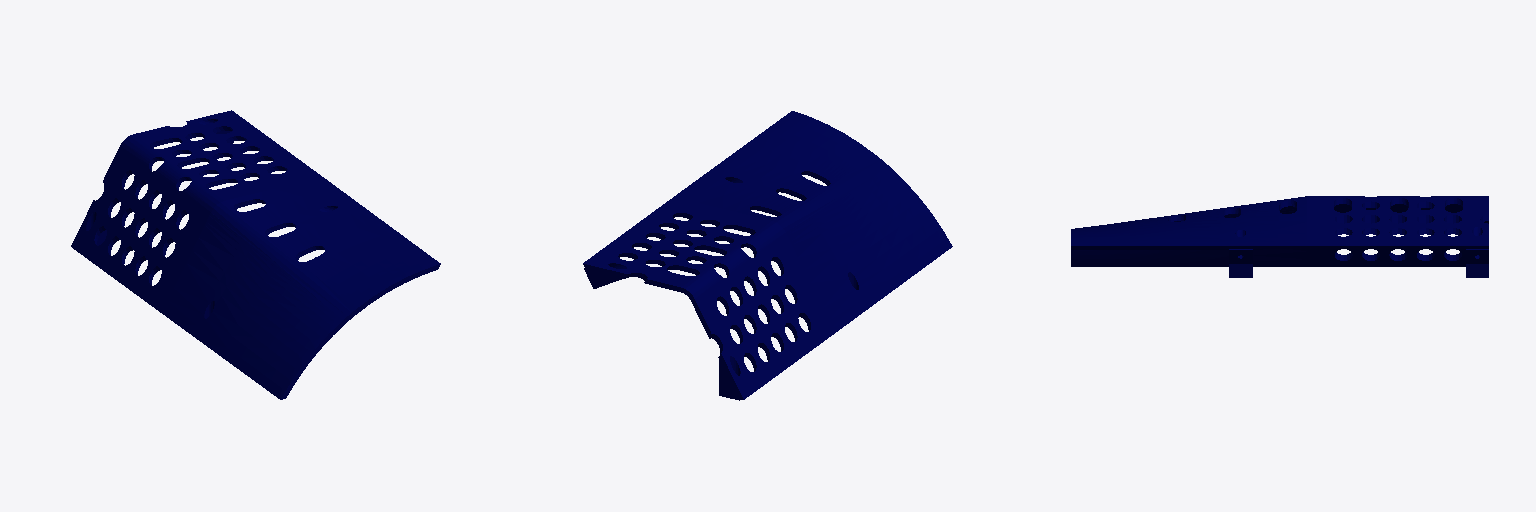
Rendered from Light_Cured_Case.01.obj.
3 renders of one model, left to right at view 1: azimuth 30°, elevation 25°; view 2: azimuth 150°, elevation 25°; view 3: azimuth 270°, elevation 25°, orthographic.
Visible parts, largest first — view 1: 實體1; view 2: 實體1; view 3: 實體1.
Boxes of the visible parts, box(x1,y1,x2,y2) form: 實體1: box(71, 110, 440, 399); 實體1: box(583, 111, 952, 400); 實體1: box(1071, 196, 1488, 277).
Bounding box in the file's own units: 0.1022 × 0.06 × 0.23.